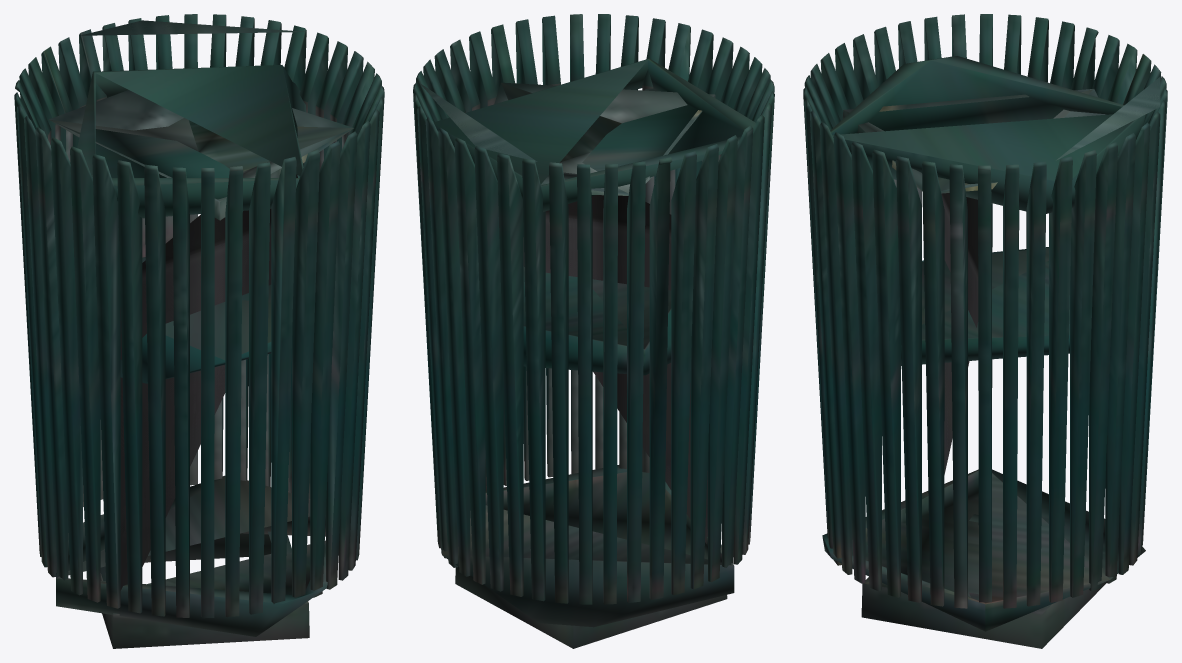
The model's file is city-bin.lod0.glb.
3 views of the same model, side by side, from view 1: azimuth 30°, elevation 25°; view 2: azimuth 150°, elevation 25°; view 3: azimuth 270°, elevation 25° (orthographic). The views are drawn at different scales.
Parts seen in each view (by area): view 1: defaultMaterial; view 2: defaultMaterial; view 3: defaultMaterial.
Part boxes in pixels (x1,y1,x2,y2): defaultMaterial: (14,14,384,648); defaultMaterial: (413,14,774,648); defaultMaterial: (803,14,1167,648).
Size of the model in its own units: 0.6483 by 0.9903 by 0.6483.
1 material, 1 textured.
